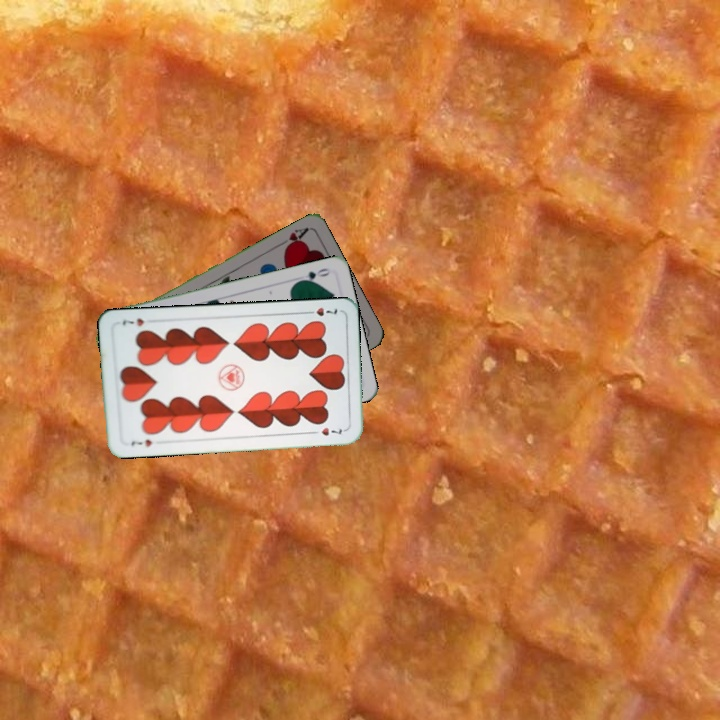GO: (294, 264, 333, 285)
H7: (301, 303, 340, 319), (127, 435, 154, 449)
HA: (274, 223, 311, 253)
